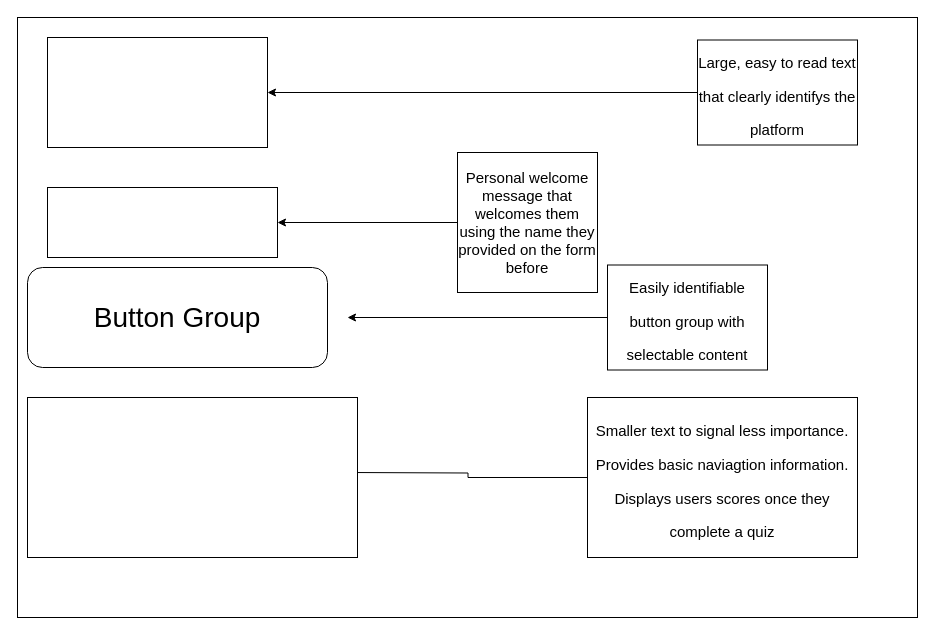
Image size: 935x635. Some labels were removed from this diagram. The shapes that lost their labels are listed below. From the top down, each one's centre as x and y in pixels, then its label:
pixel 157 92: Platform Name
pixel 162 222: Welcome Message
pixel 192 477: Changeable content
